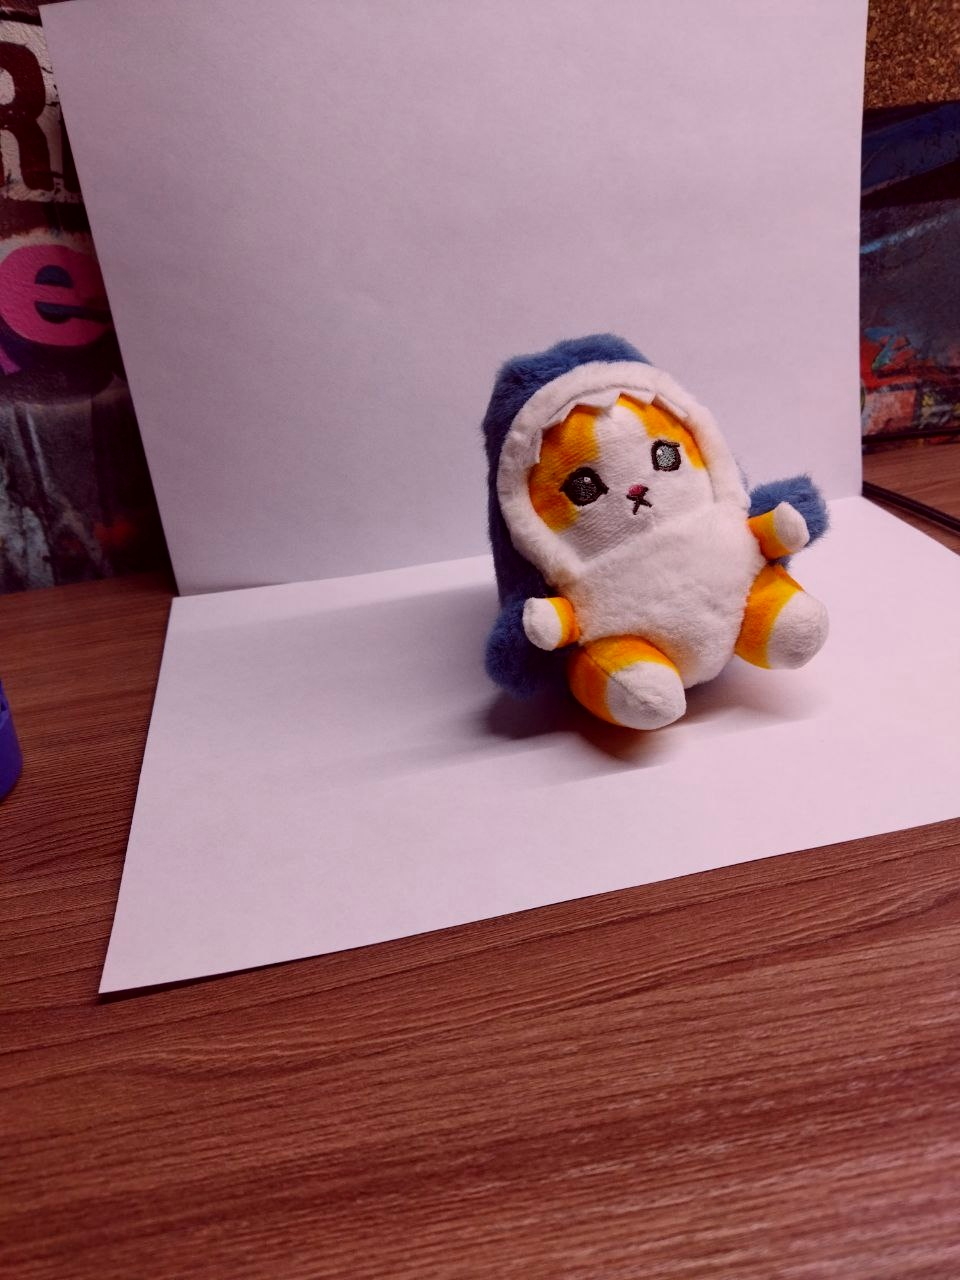Snark Cat: (487, 335, 828, 735)
